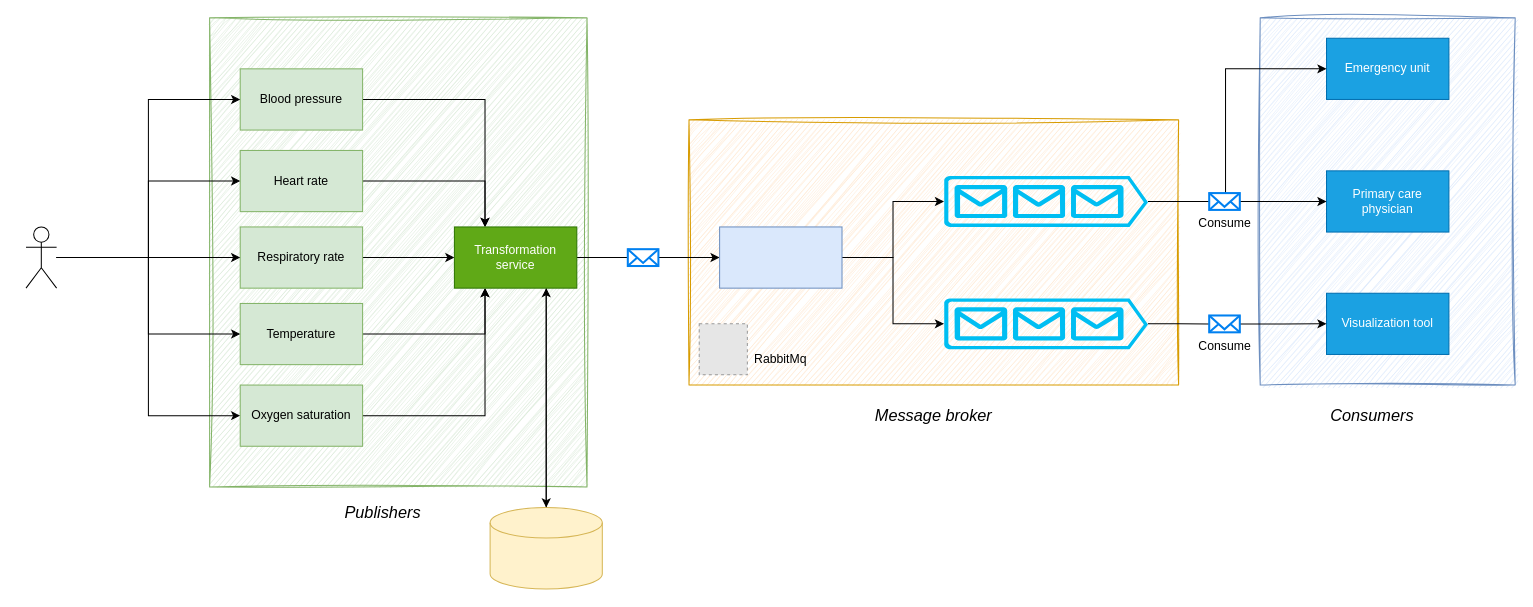
Image size: 1533x607. Some labels were removed from this diagram. Grey dashed boxes stand in for pictures. Each missing label, with the centre of its shape:
Patient: [41,257]
Publish: [642,257]
Queue 1: [1046,200]
Queue 2: [1046,323]
Storage layer: [545,547]
Topic exchange: [780,257]
